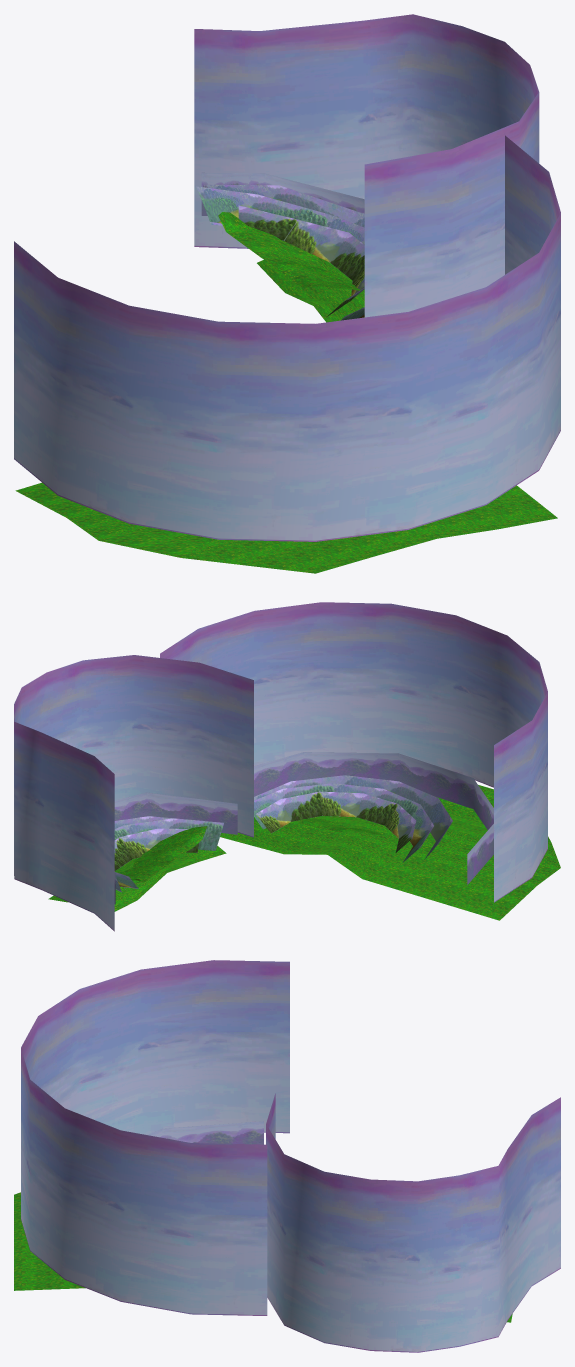
Rendered from BAGENDINTERIOR_BE_BAGENDEXT.fbx.
3 views of the same model, one above another, from view 1: azimuth 30°, elevation 25°; view 2: azimuth 150°, elevation 25°; view 3: azimuth 270°, elevation 25° (orthographic). The views are drawn at different scales.
Visible parts, largest first — view 1: BAGENDINTERIOR_BE_BAGENDEXT; view 2: BAGENDINTERIOR_BE_BAGENDEXT; view 3: BAGENDINTERIOR_BE_BAGENDEXT.
Part boxes in pixels (box(x1,y1,x2,y2)): BAGENDINTERIOR_BE_BAGENDEXT: box(14, 14, 560, 573); BAGENDINTERIOR_BE_BAGENDEXT: box(14, 602, 560, 931); BAGENDINTERIOR_BE_BAGENDEXT: box(14, 960, 560, 1352).
Bounding box in the file's own units: 138234 × 56243 × 144450.
Materials: 9 (9 with a texture image).
